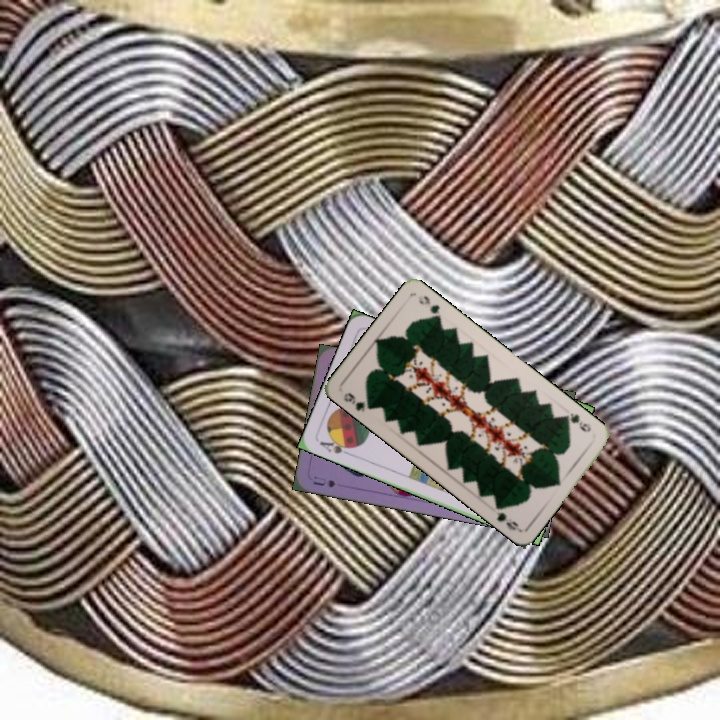G9: (339, 388, 377, 414), (559, 409, 594, 435)
SA: (315, 434, 356, 458)
SU: (309, 472, 338, 490)
